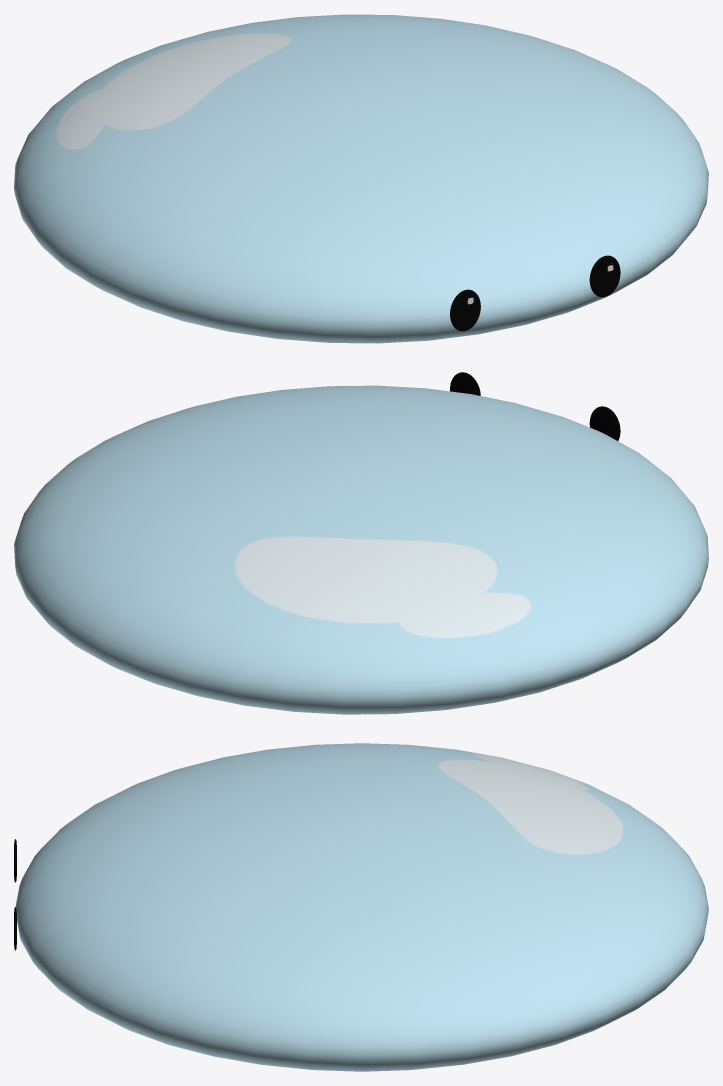
The model's file is jyanp  2.fbx.
3 views of the same model, one above another, from view 1: azimuth 30°, elevation 25°; view 2: azimuth 150°, elevation 25°; view 3: azimuth 270°, elevation 25° (orthographic).
Parts seen in each view (by area): view 1: pCylinder3; view 2: pCylinder3; view 3: pCylinder3.
Part boxes in pixels (box(x1,y1,x2,y2)): pCylinder3: box(14, 14, 708, 343); pCylinder3: box(14, 372, 708, 714); pCylinder3: box(14, 743, 708, 1071).
Bounding box in the file's own units: 2.7 × 0.6005 × 2.7.
2 materials, 2 textured.
